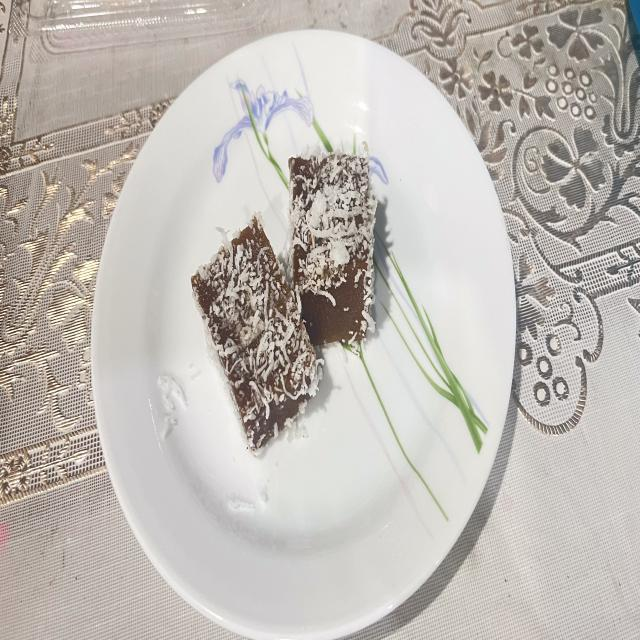kaswi: (191, 216, 322, 453), (289, 151, 378, 344)
